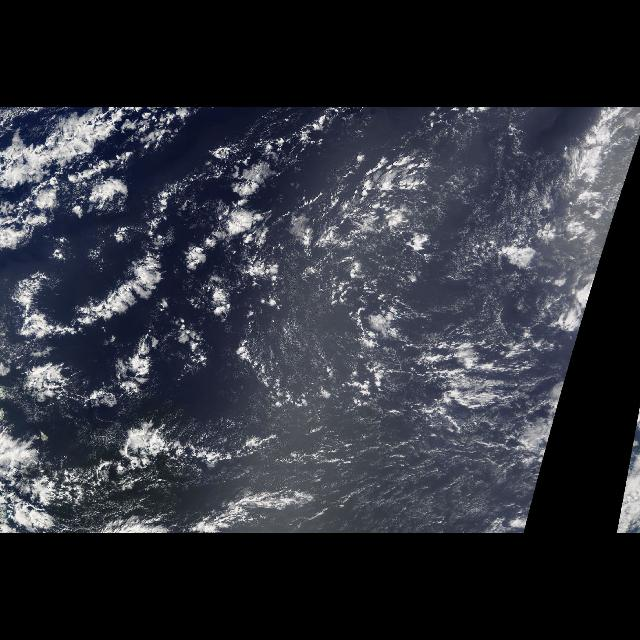Fish: (54, 389, 346, 517), (20, 254, 234, 376)
Flower: (18, 238, 178, 474)
Sugar: (278, 418, 542, 534), (421, 108, 572, 276), (254, 249, 370, 409)
